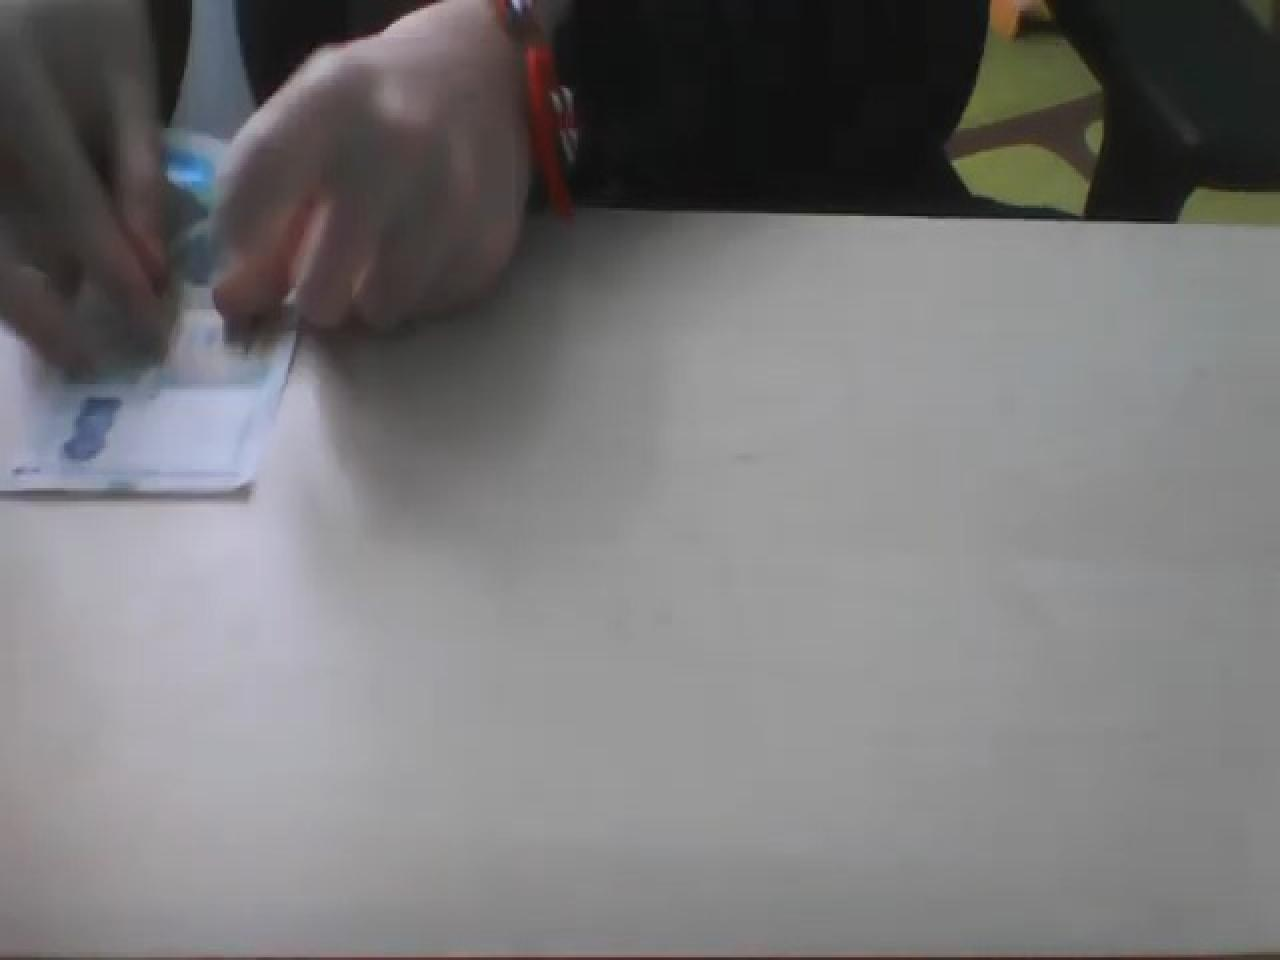100leva: (2, 139, 302, 501)
